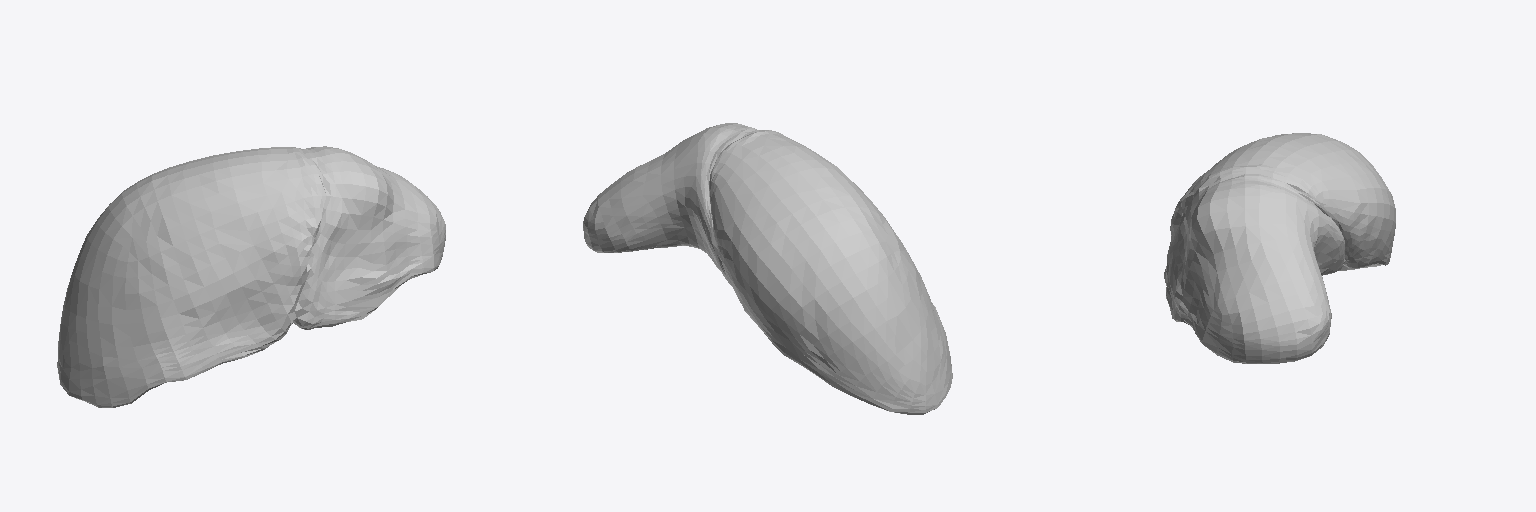
File: liver3.obj
The picture shows the model from 3 angles: view 1: azimuth 30°, elevation 25°; view 2: azimuth 150°, elevation 25°; view 3: azimuth 270°, elevation 25°; orthographic projection.
Parts seen in each view (by area): view 1: liver_organs_polySurface1.009; view 2: liver_organs_polySurface1.009; view 3: liver_organs_polySurface1.009.
Boxes of the visible parts, box(x1,y1,x2,y2) form: liver_organs_polySurface1.009: box(57, 146, 445, 407); liver_organs_polySurface1.009: box(583, 123, 952, 414); liver_organs_polySurface1.009: box(1164, 133, 1395, 363).
Bounding box in the file's own units: 17.82 × 9.9 × 10.05.